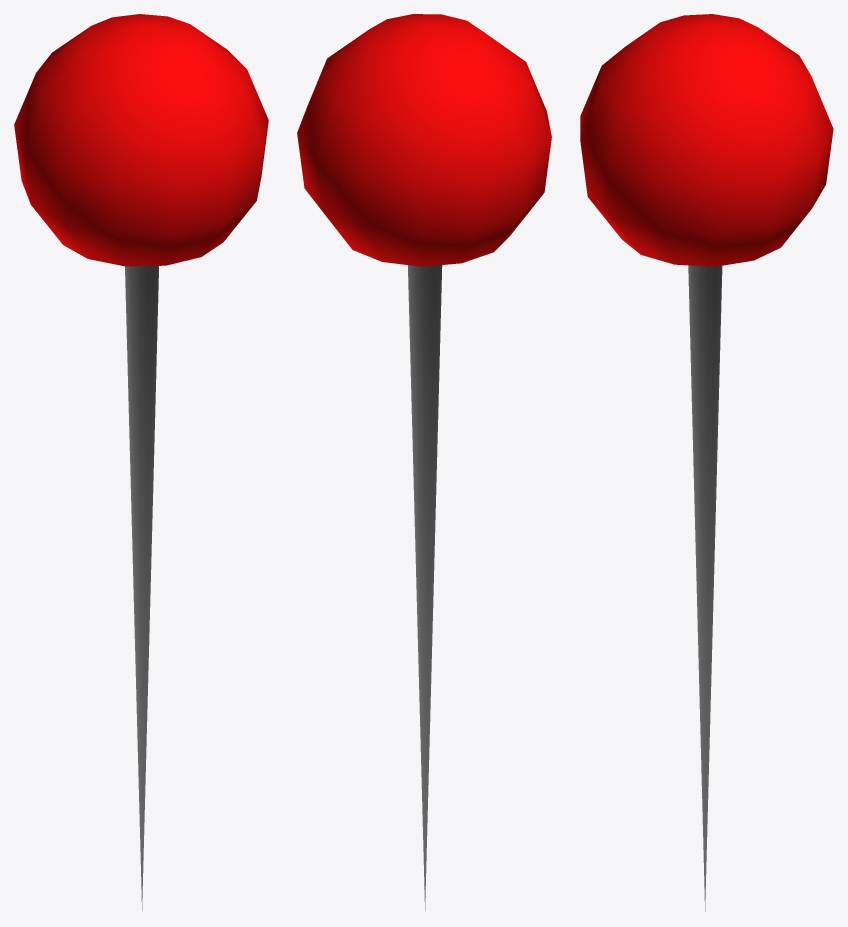
Rendered from pin_active_right.FBX.
3 views of the same model, side by side, from view 1: azimuth 30°, elevation 25°; view 2: azimuth 150°, elevation 25°; view 3: azimuth 270°, elevation 25° (orthographic).
Parts seen in each view (by area): view 1: Sphere001; view 2: Sphere001; view 3: Sphere001.
Part boxes in pixels (x1,y1,x2,y2): Sphere001: (14, 14, 268, 910); Sphere001: (297, 14, 551, 910); Sphere001: (580, 14, 833, 911).
Size of the model in its own units: 86.26 by 331 by 85.63.
